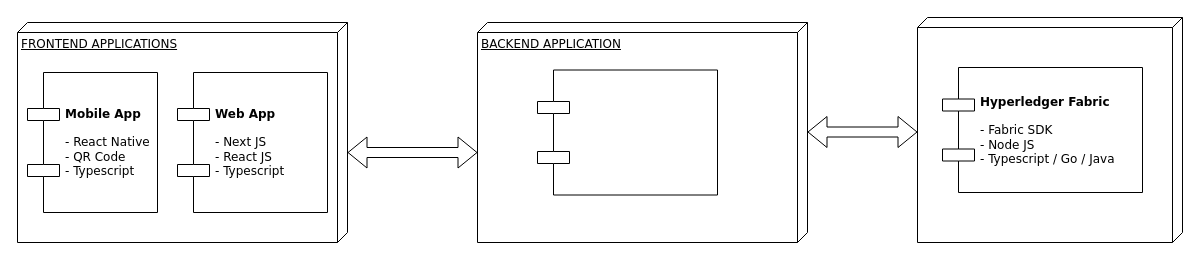
This 1200x260 diagram has some shape labels left out. The shapes that lost their labels are listed below. From the top down, each one's box as (x1, y1, x2, y2) in pixels, then its label:
(536, 69, 718, 195): API Server - NestJS - SQL Database - JWT token - Typescript
(916, 16, 1182, 242): BLOCKCHAIN
